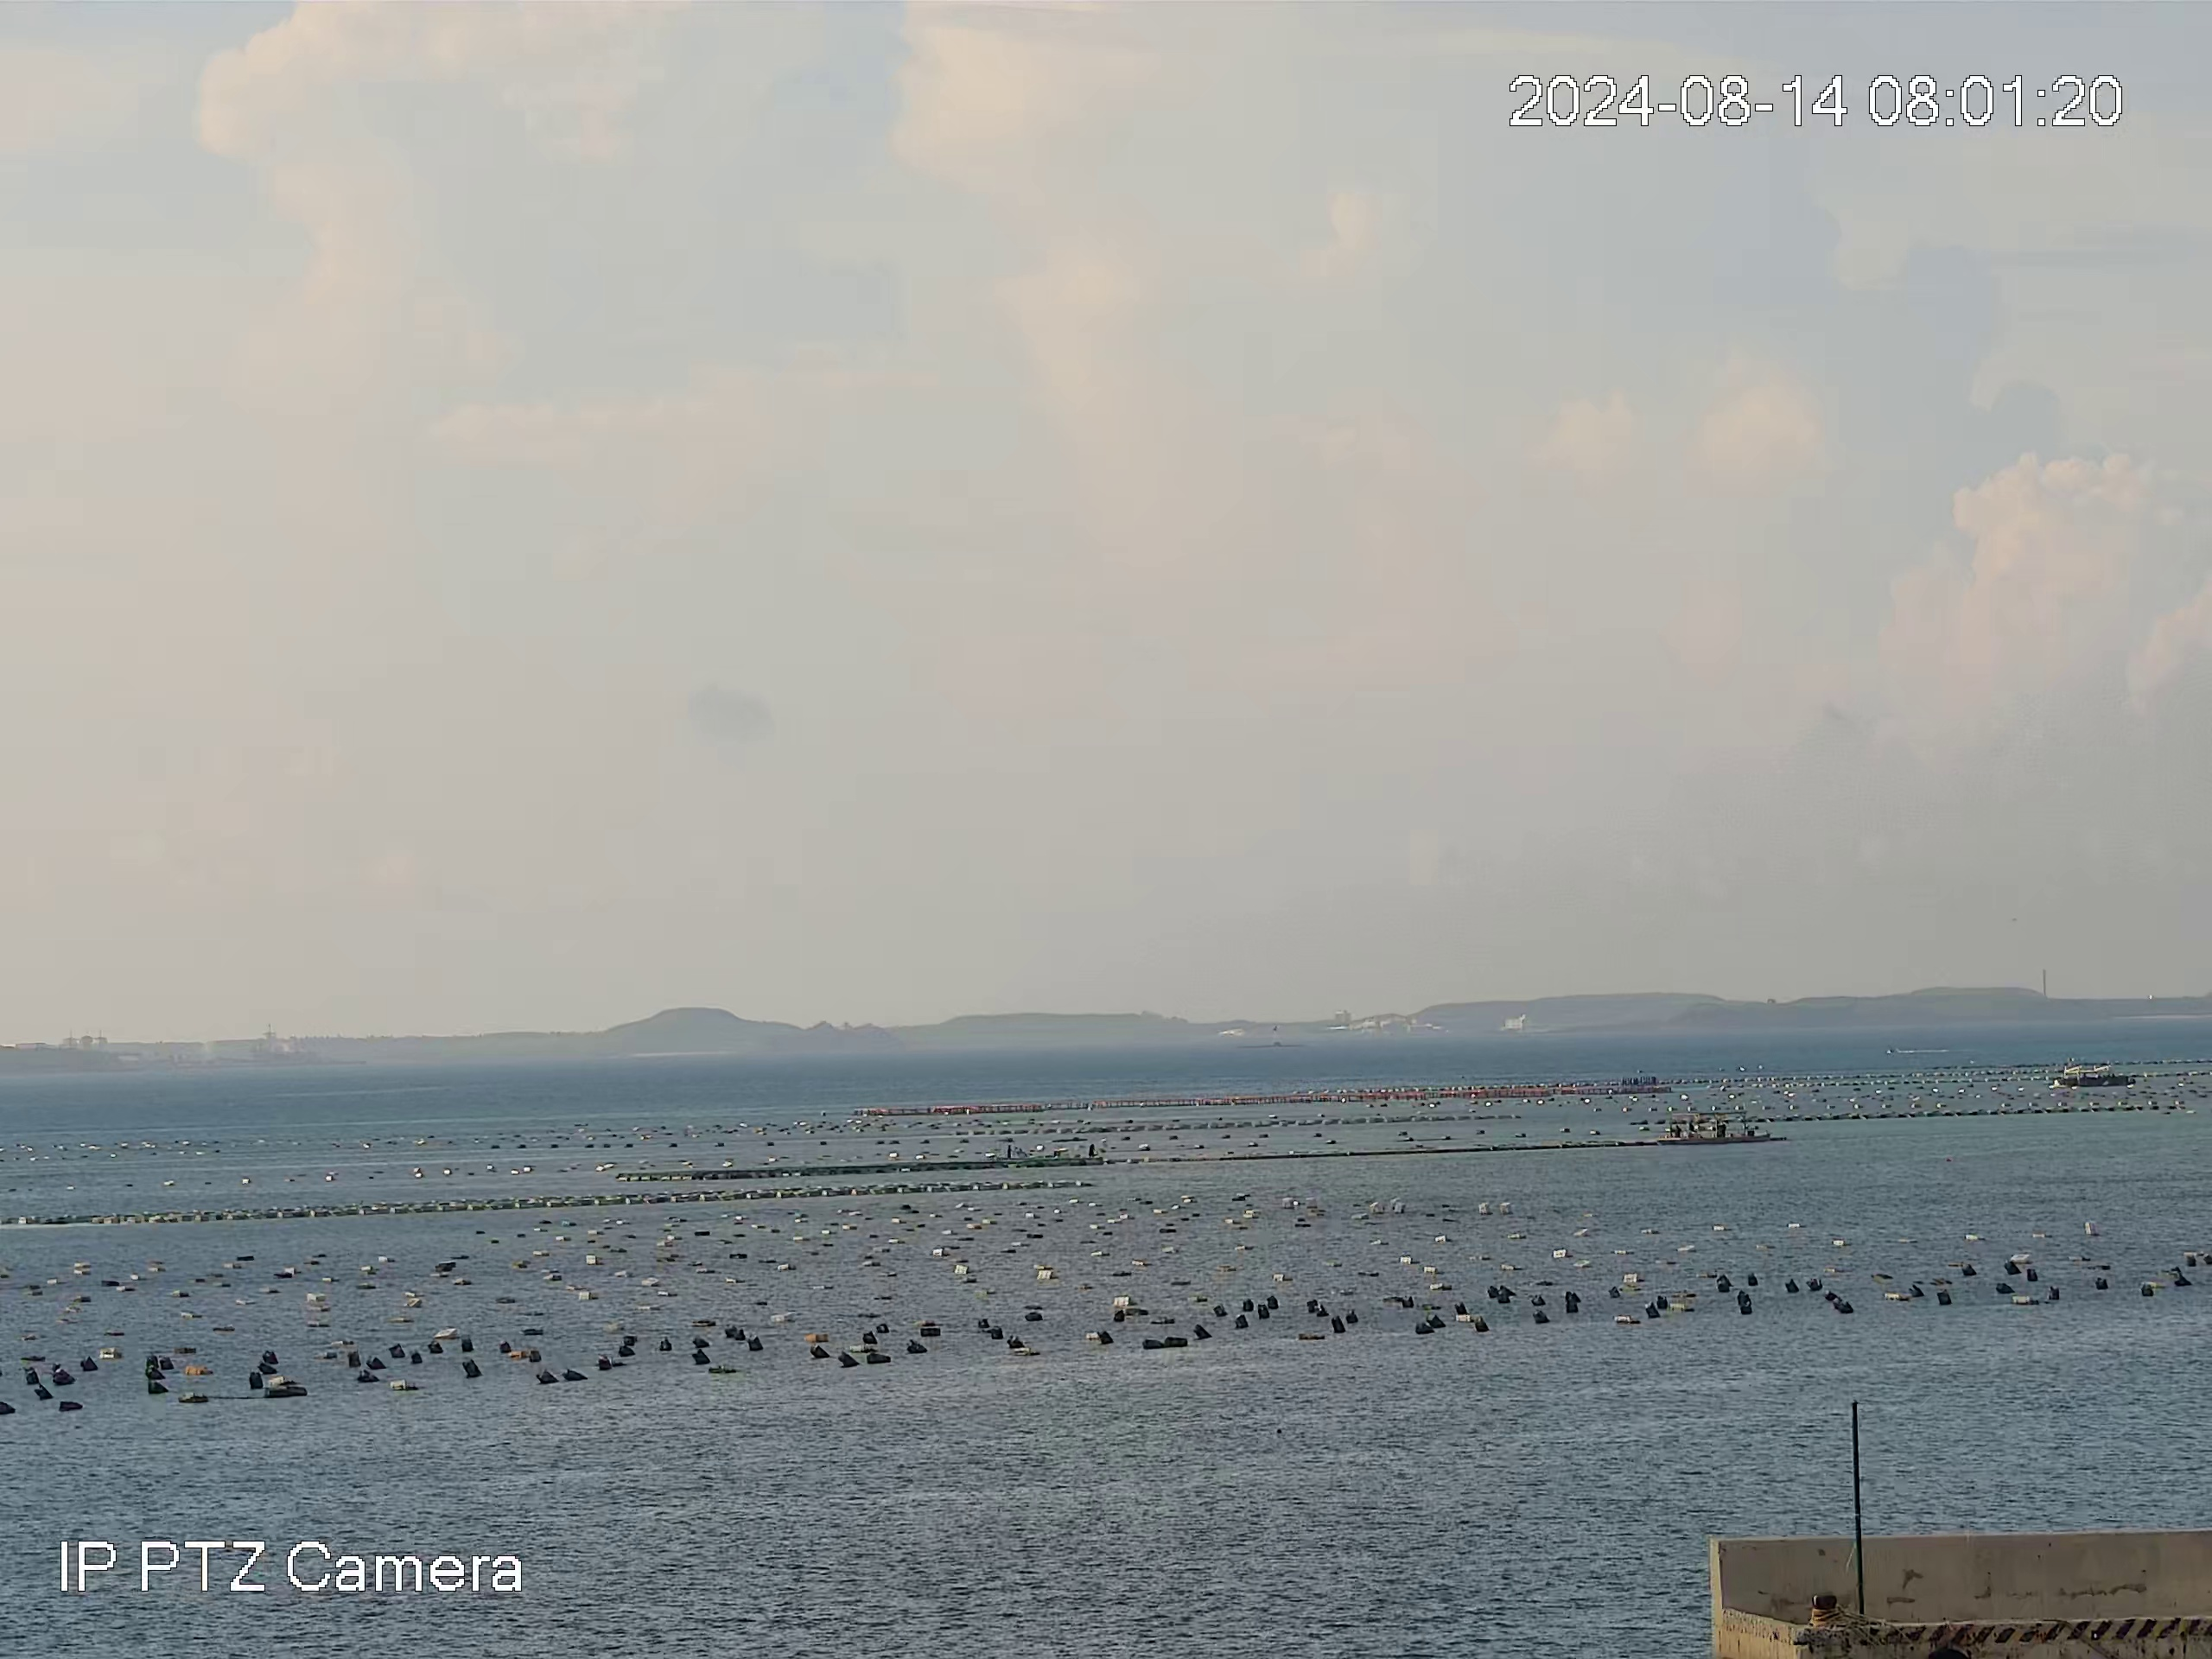boat: (1656, 1108, 1775, 1145), (2059, 1061, 2137, 1087)
